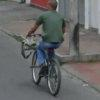bicycles: (22, 35, 61, 96)
